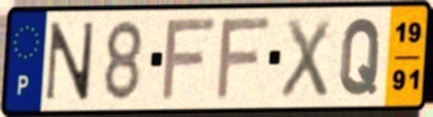8: (100, 17, 147, 104)
F: (212, 14, 275, 104), (158, 15, 220, 104)
N: (42, 19, 98, 104)
Q: (337, 15, 384, 98)
X: (277, 16, 333, 101)
